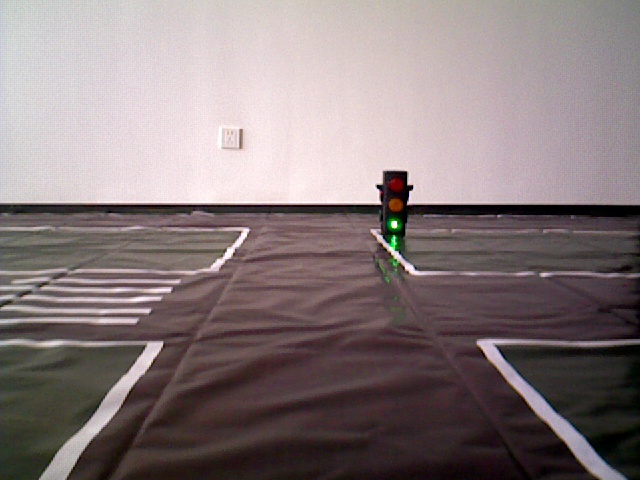green: (378, 171, 406, 236)
